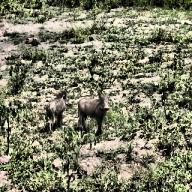boar: (76, 92, 108, 136), (45, 93, 67, 131)
